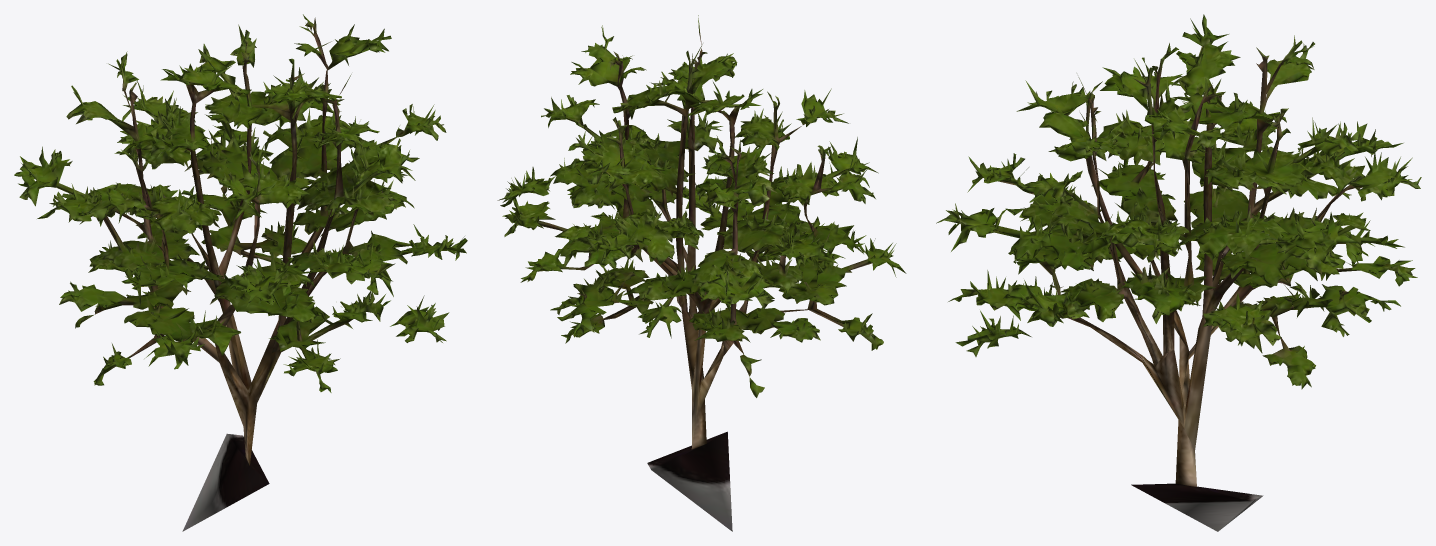
Rendered from tree_pot_lod1.glb.
3 renders of one model, left to right at view 1: azimuth 30°, elevation 25°; view 2: azimuth 150°, elevation 25°; view 3: azimuth 270°, elevation 25°, orthographic. The views are drawn at different scales.
Visible parts, largest first — view 1: tripo_node_1b0d959a-7cf9-4ce7-a38e-07beb3e64792; view 2: tripo_node_1b0d959a-7cf9-4ce7-a38e-07beb3e64792; view 3: tripo_node_1b0d959a-7cf9-4ce7-a38e-07beb3e64792.
Part boxes in pixels (<box>): tripo_node_1b0d959a-7cf9-4ce7-a38e-07beb3e64792: <box>14,14,467,531</box>; tripo_node_1b0d959a-7cf9-4ce7-a38e-07beb3e64792: <box>497,15,906,531</box>; tripo_node_1b0d959a-7cf9-4ce7-a38e-07beb3e64792: <box>936,14,1421,531</box>.
Bounding box in the file's own units: 0.8621 × 1.09 × 0.9305.
Materials: 1 (1 with a texture image).
